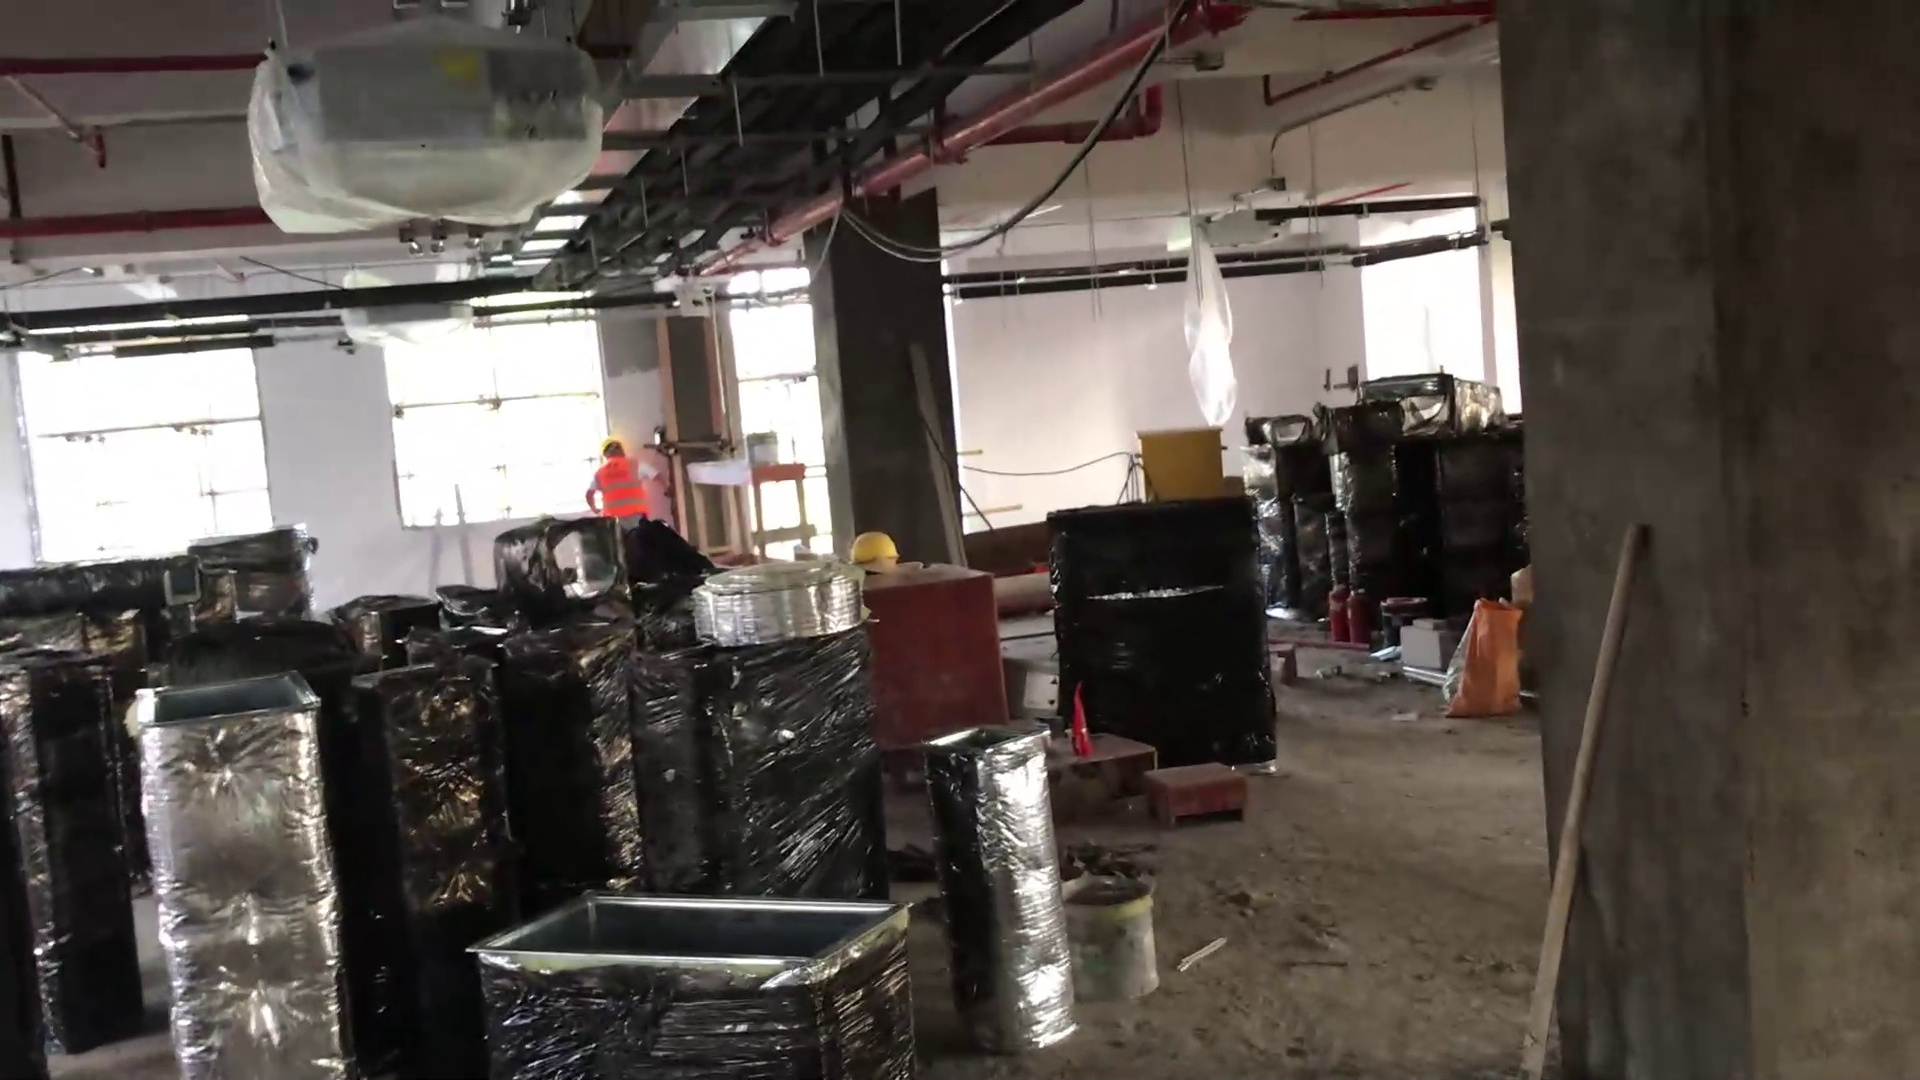helmet: (848, 526, 897, 568), (596, 438, 626, 450)
person: (573, 435, 661, 532)
vest: (595, 461, 646, 518)
